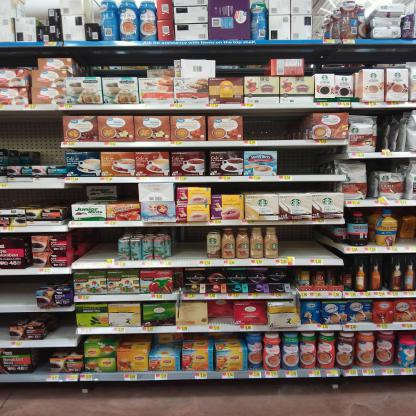Void: (5, 116, 57, 149), (278, 228, 333, 258), (73, 229, 119, 258), (283, 152, 339, 175), (251, 116, 304, 140), (0, 190, 62, 210), (1, 279, 34, 305), (174, 231, 202, 258), (43, 318, 74, 337), (35, 352, 50, 367), (0, 317, 10, 338)
